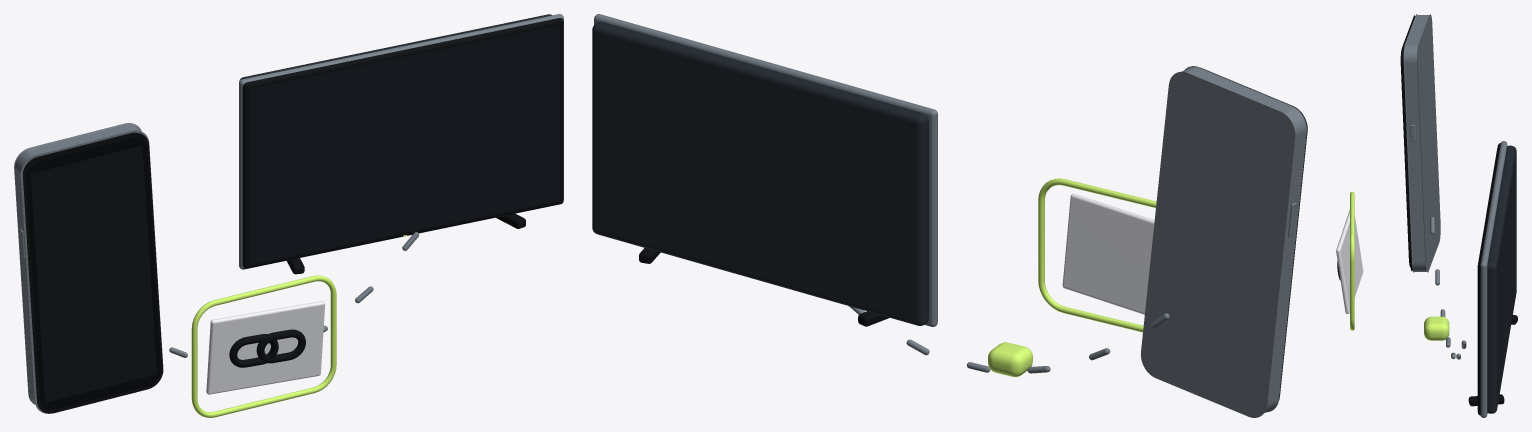
The model's file is remote-handoff.glb.
3 views of the same model, side by side, from view 1: azimuth 30°, elevation 25°; view 2: azimuth 150°, elevation 25°; view 3: azimuth 270°, elevation 25° (orthographic). The views are drawn at different scales.
Visible parts, largest first — view 1: DestinationTVScreen, ReviewPhoneScreen, ReviewCardBody, DestinationTVBezel, ReviewPhoneGlass, ReviewPhoneChassis, ReviewFocus, ReviewPhoneBody, DestinationTVRim, LinkLoopB, LinkLoopA, DestinationTVBack; view 2: DestinationTVBack, ReviewPhoneChassis, ReviewCardBody, DestinationTVRim, ReviewFocus, HandoffPacketBody; view 3: ReviewPhoneChassis, DestinationTVBack, DestinationTVRim, ReviewCardBody, DestinationTVBezel, ReviewFocus, ReviewPhoneBody, HandoffPacketBody, ReviewPhoneGlass.
Boxes of the visible parts, left/top/right/bottom form: DestinationTVScreen: left=250, top=25, right=559, bottom=264; ReviewPhoneScreen: left=31, top=145, right=156, bottom=402; ReviewCardBody: left=206, top=301, right=325, bottom=394; DestinationTVBezel: left=242, top=18, right=563, bottom=268; ReviewPhoneGlass: left=26, top=138, right=160, bottom=409; ReviewPhoneChassis: left=14, top=123, right=163, bottom=413; ReviewFocus: left=191, top=275, right=336, bottom=417; ReviewPhoneBody: left=23, top=132, right=163, bottom=413; DestinationTVRim: left=239, top=14, right=563, bottom=269; LinkLoopB: left=256, top=329, right=305, bottom=363; LinkLoopA: left=229, top=334, right=278, bottom=367; DestinationTVBack: left=239, top=14, right=551, bottom=80; DestinationTVBack: left=592, top=21, right=928, bottom=325; ReviewPhoneChassis: left=1140, top=66, right=1307, bottom=417; ReviewCardBody: left=1062, top=193, right=1154, bottom=314; DestinationTVRim: left=594, top=14, right=937, bottom=326; ReviewFocus: left=1038, top=178, right=1156, bottom=332; HandoffPacketBody: left=988, top=342, right=1032, bottom=377; ReviewPhoneChassis: left=1403, top=14, right=1440, bottom=272; DestinationTVBack: left=1487, top=145, right=1516, bottom=413; DestinationTVRim: left=1480, top=141, right=1507, bottom=417; ReviewCardBody: left=1336, top=209, right=1363, bottom=313; DestinationTVBezel: left=1477, top=143, right=1500, bottom=415; ReviewFocus: left=1350, top=191, right=1354, bottom=330; ReviewPhoneBody: left=1401, top=15, right=1415, bottom=271; HandoffPacketBody: left=1424, top=316, right=1449, bottom=340; ReviewPhoneGlass: left=1400, top=46, right=1410, bottom=266.
Bounding box in the file's own units: 6.45 × 3.05 × 2.13.
